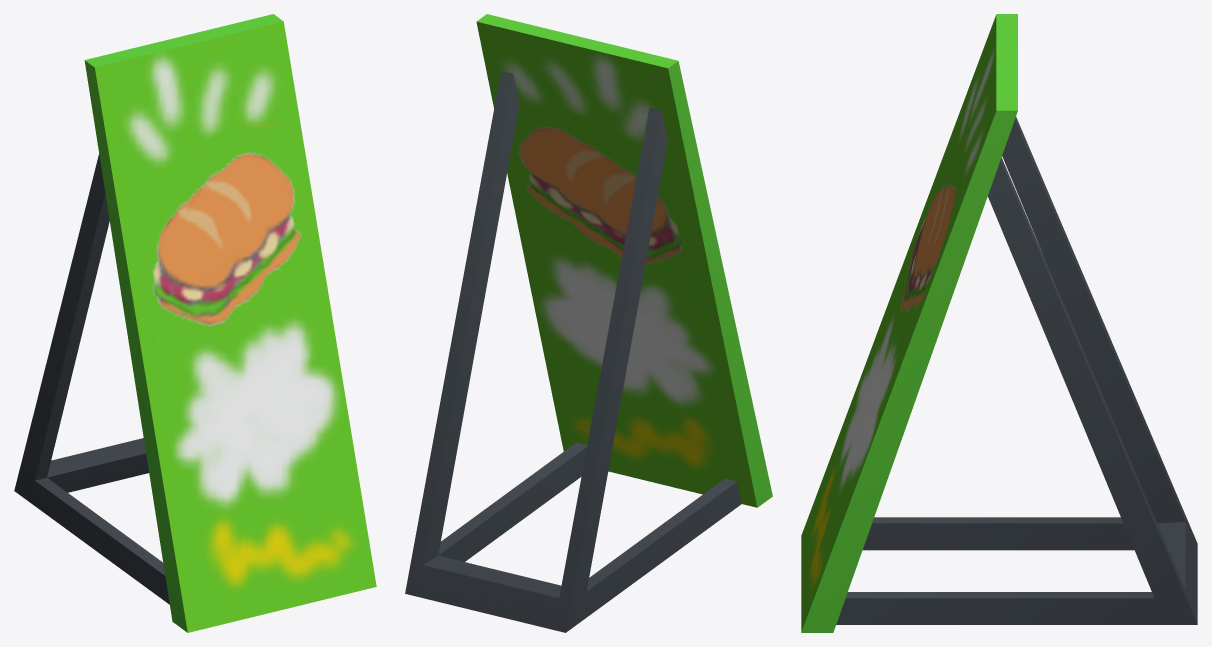
The model's file is Poster.fbx.
3 views of the same model, side by side, from view 1: azimuth 30°, elevation 25°; view 2: azimuth 150°, elevation 25°; view 3: azimuth 270°, elevation 25° (orthographic). The views are drawn at different scales.
Parts seen in each view (by area): view 1: Poster; view 2: Poster; view 3: Poster.
Boxes of the visible parts, x1,y1,x2,y2 form: Poster: [14, 14, 376, 632]; Poster: [405, 14, 772, 632]; Poster: [801, 14, 1197, 632].
Size of the model in its own units: 73.65 by 185 by 128.
